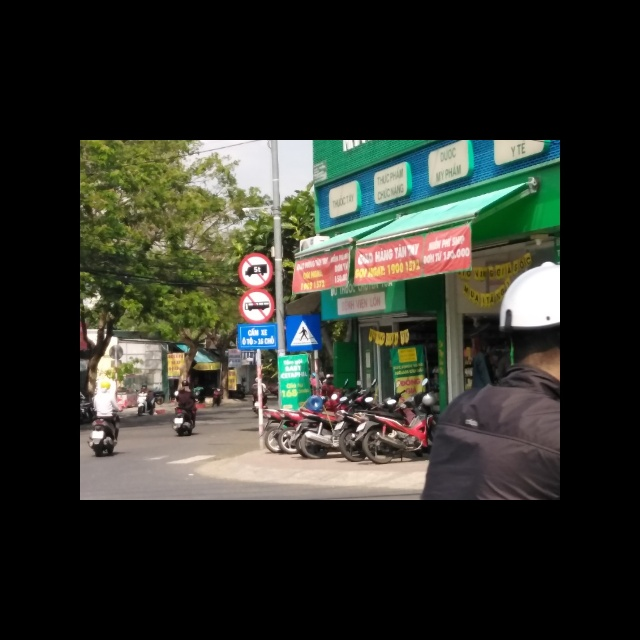Cấm xe tải: (237, 252, 274, 288)
Cấm xe xe khách: (240, 289, 277, 326)
Đường dành cho người đi bộ: (285, 313, 322, 350)
